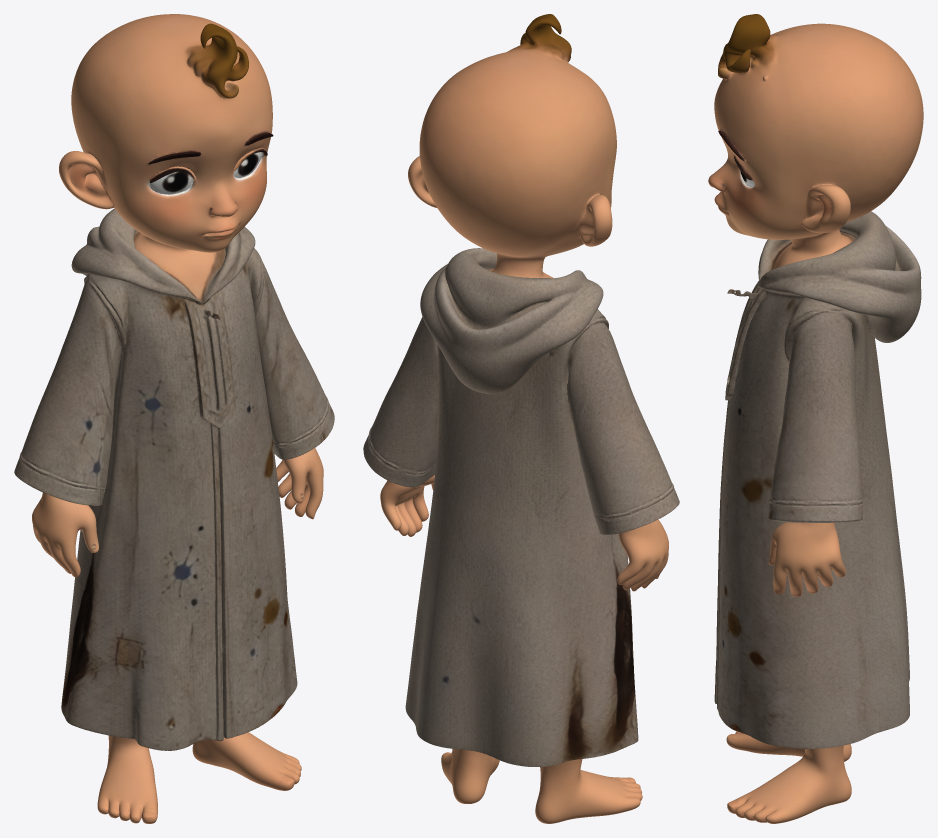
File: mohammed_gris__base_basic_pbr.glb
3 views of the same model, side by side, from view 1: azimuth 30°, elevation 25°; view 2: azimuth 150°, elevation 25°; view 3: azimuth 270°, elevation 25° (orthographic).
Visible parts, largest first — view 1: model; view 2: model; view 3: model.
Part boxes in pixels (box(x1,y1,x2,y2)): model: box(14, 14, 334, 823); model: box(363, 14, 679, 823); model: box(708, 14, 923, 823).
Size of the model in its own units: 0.7883 by 1.9 by 0.4827.
1 material, 1 textured.
